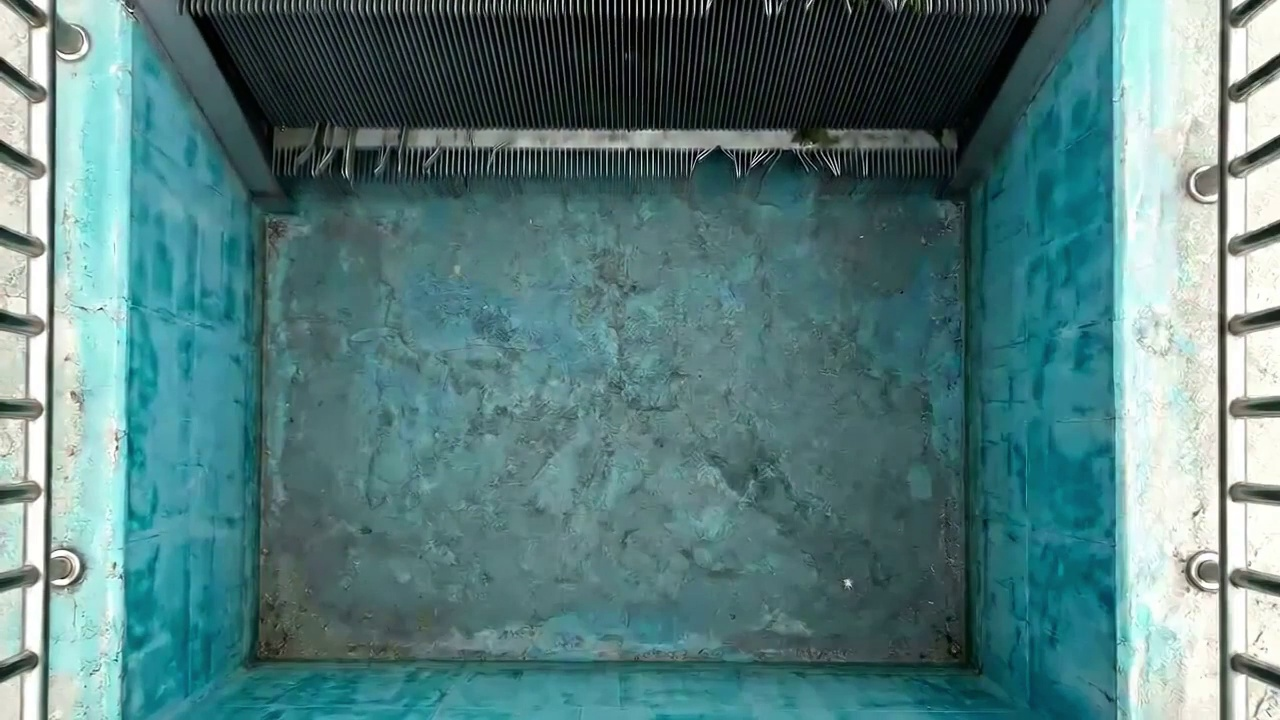damage: (289, 123, 449, 189), (681, 146, 870, 194)
